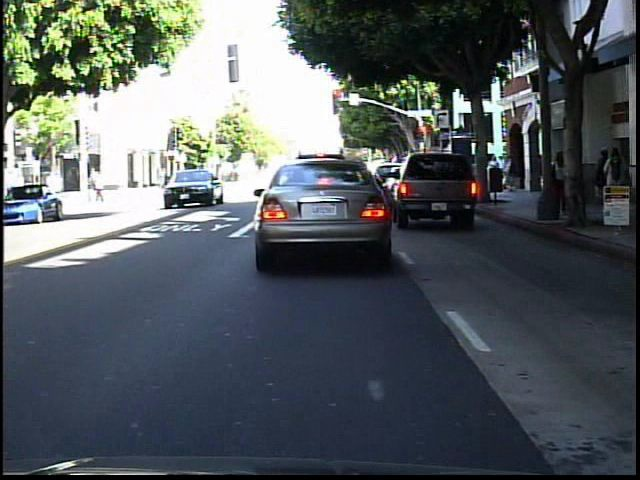person: (603, 143, 631, 218), (548, 146, 572, 217), (593, 147, 610, 204), (87, 162, 108, 205)
